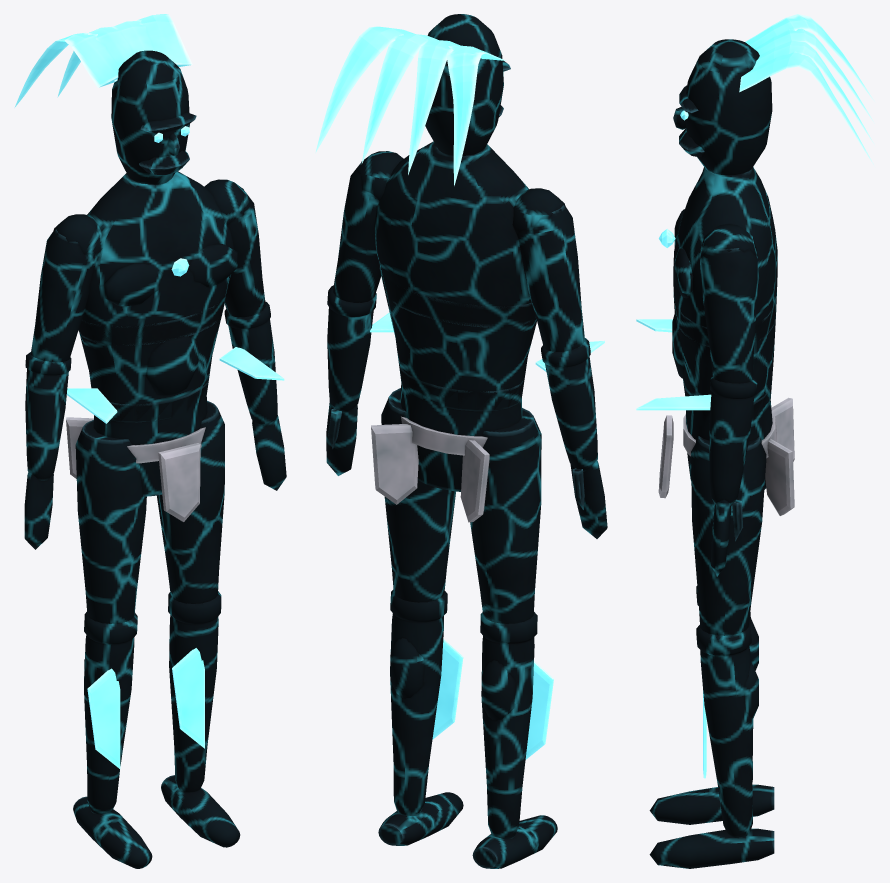
File: underworld-surtling-water-masculine.glb
3 views of the same model, side by side, from view 1: azimuth 30°, elevation 25°; view 2: azimuth 150°, elevation 25°; view 3: azimuth 270°, elevation 25° (orthographic). The views are drawn at different scales.
Parts seen in each view (by area): view 1: Chest.chest, LeftUpperLeg.thigh, Spine.abdomen, RightUpperLeg.thigh, Head.head, LeftUpperArm.upper-arm, LeftLowerLeg.shin, RightLowerLeg.shin, Hips.pelvis, LeftLowerArm.forearm, RightUpperArm.upper-arm, RightLowerArm.forearm (+26 smaller); view 2: Chest.chest, Spine.abdomen, LeftUpperLeg.thigh, RightUpperLeg.thigh, LeftLowerLeg.shin, RightLowerLeg.shin, LeftUpperArm.upper-arm, Head.head, Hips.pelvis, RightUpperArm.upper-arm, LeftLowerArm.forearm, RightLowerArm.forearm (+21 smaller); view 3: RightUpperLeg.thigh, Chest.chest, Head.head, RightLowerLeg.shin, RightUpperArm.upper-arm, RightLowerArm.forearm, RightFoot.foot, Spine.abdomen, LeftFoot.foot, Hips.hip-plate-0, Head.current-3, Hips.pelvis (+14 smaller).
Boxes of the visible parts, box(x1,y1,x2,y2) form: Chest.chest: box(78, 171, 234, 345); LeftUpperLeg.thigh: box(75, 420, 146, 623); Spine.abdomen: box(79, 304, 223, 422); RightUpperLeg.thigh: box(156, 400, 224, 603); Head.head: box(111, 50, 189, 185); LeftUpperArm.upper-arm: box(31, 229, 98, 362); LeftLowerLeg.shin: box(84, 635, 134, 814); RightLowerLeg.shin: box(169, 615, 218, 792); Hips.pelvis: box(93, 377, 209, 496); LeftLowerArm.forearm: box(25, 369, 68, 480); RightUpperArm.upper-arm: box(224, 188, 265, 317); RightLowerArm.forearm: box(228, 319, 277, 426); Chest.chest: box(374, 141, 535, 327); Spine.abdomen: box(379, 268, 536, 411); LeftUpperLeg.thigh: box(470, 408, 541, 623); RightUpperLeg.thigh: box(381, 388, 455, 602); LeftLowerLeg.shin: box(481, 636, 534, 839); RightLowerLeg.shin: box(390, 613, 443, 815); LeftUpperArm.upper-arm: box(517, 205, 584, 351); Head.head: box(425, 14, 503, 156); Hips.pelvis: box(398, 362, 522, 491); RightUpperArm.upper-arm: box(333, 162, 381, 302); LeftLowerArm.forearm: box(545, 356, 597, 471); RightLowerArm.forearm: box(327, 307, 373, 413); RightUpperLeg.thigh: box(691, 436, 766, 635); Chest.chest: box(673, 167, 777, 347); Head.head: box(685, 39, 772, 175); RightLowerLeg.shin: box(700, 646, 753, 838); RightUpperArm.upper-arm: box(700, 248, 757, 383); RightLowerArm.forearm: box(709, 391, 754, 505); RightFoot.foot: box(649, 828, 774, 868); Spine.abdomen: box(676, 308, 775, 420); LeftFoot.foot: box(649, 784, 774, 824); Hips.hip-plate-0: box(765, 438, 794, 515); Head.current-3: box(739, 51, 873, 164); Hips.pelvis: box(683, 382, 772, 489).
Size of the model in its own units: 0.6538 by 1.87 by 0.505.
Materials: 3 (3 with a texture image).
